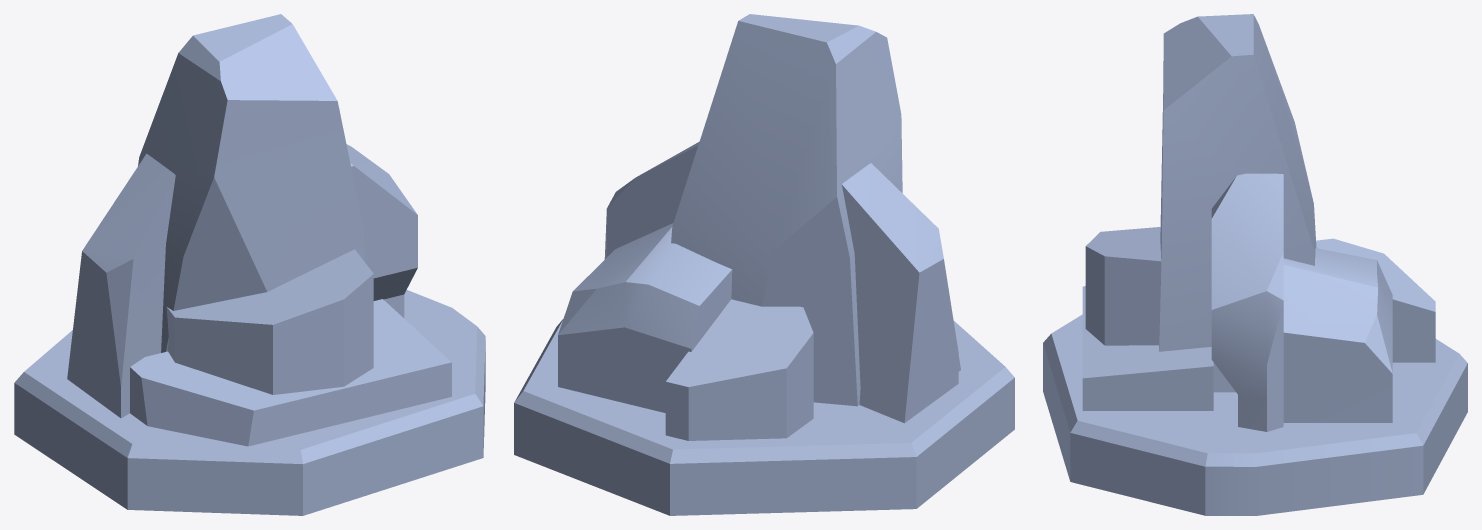
The model's file is Rock formation.fbx.
The picture shows the model from 3 angles, left to right: view 1: azimuth 30°, elevation 25°; view 2: azimuth 150°, elevation 25°; view 3: azimuth 270°, elevation 25°; orthographic projection. The views are drawn at different scales.
Visible parts, largest first — view 1: Cube.005; view 2: Cube.005; view 3: Cube.005.
Boxes of the visible parts, box(x1,y1,x2,y2) form: Cube.005: box(14, 14, 485, 515); Cube.005: box(514, 14, 1014, 515); Cube.005: box(1043, 14, 1467, 515).
Bounding box in the file's own units: 571 × 543 × 552.
